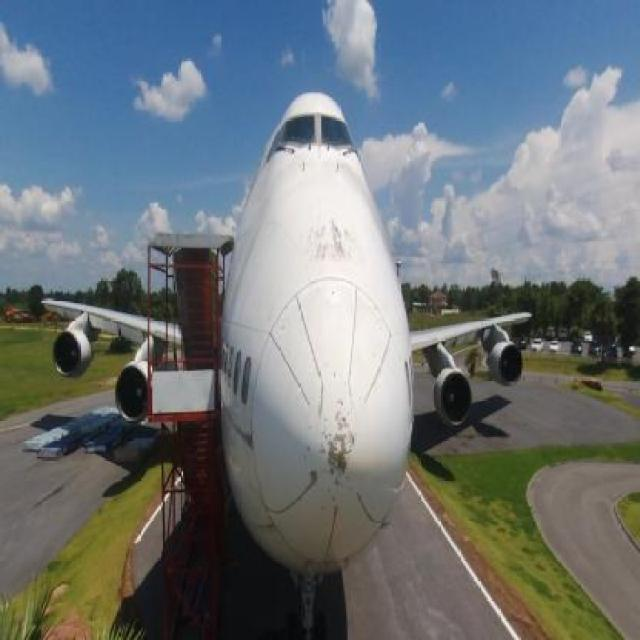Rust: (322, 438, 358, 488)
Scartch: (310, 379, 373, 518), (289, 202, 374, 286), (235, 424, 272, 470)
